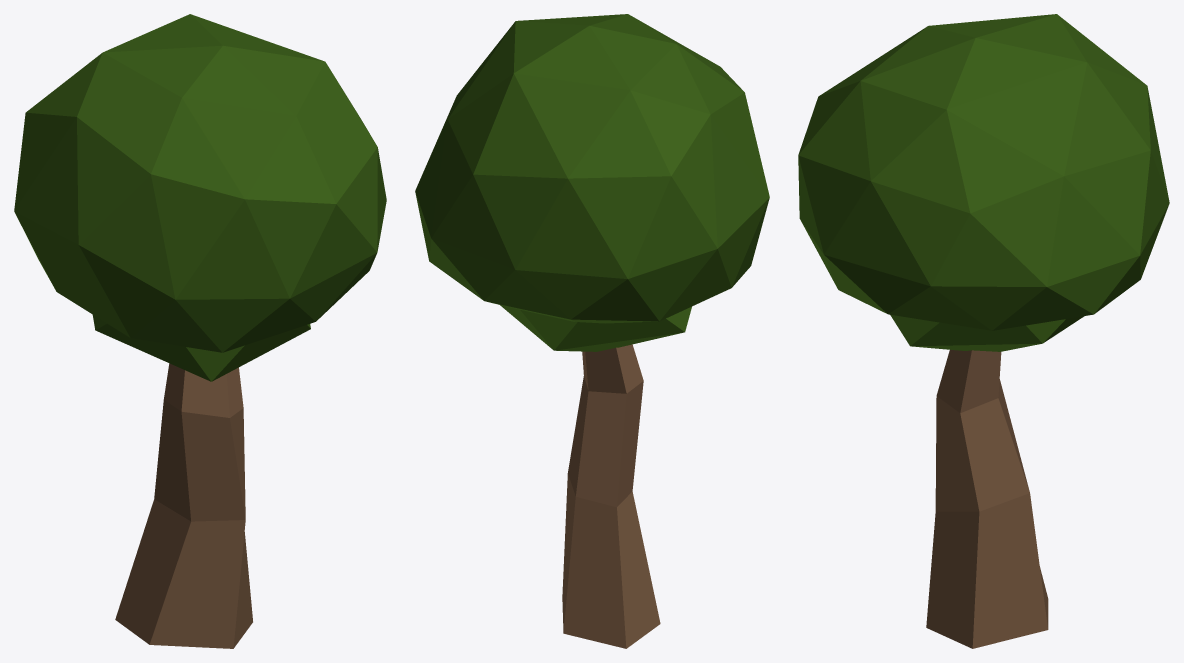
3 views of the same model, side by side, from view 1: azimuth 30°, elevation 25°; view 2: azimuth 150°, elevation 25°; view 3: azimuth 270°, elevation 25° (orthographic). The views are drawn at different scales.
Visible parts, largest first — view 1: Tree; view 2: Tree; view 3: Tree.
Part boxes in pixels (bbox=[...]): Tree: bbox=[14, 14, 386, 648]; Tree: bbox=[415, 14, 769, 648]; Tree: bbox=[798, 14, 1169, 648].
Size of the model in its own units: 2.83 by 5.07 by 2.86.
1 material, 1 textured.
